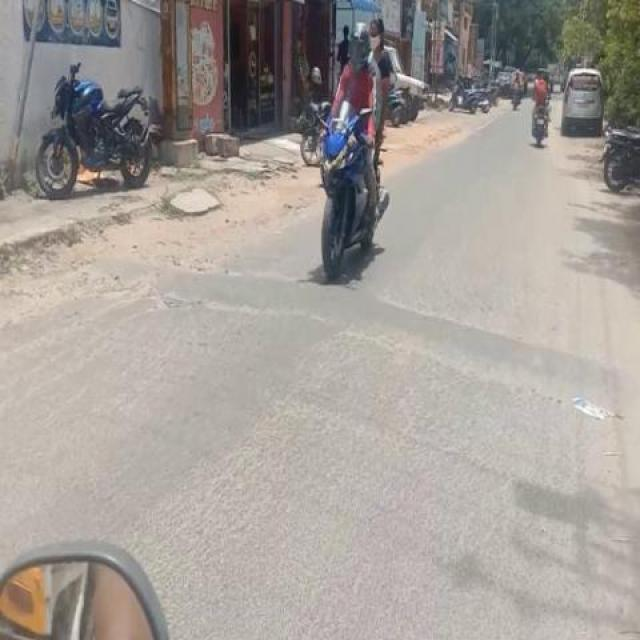Unmarked Bump: (271, 277, 638, 407), (75, 258, 273, 309)
